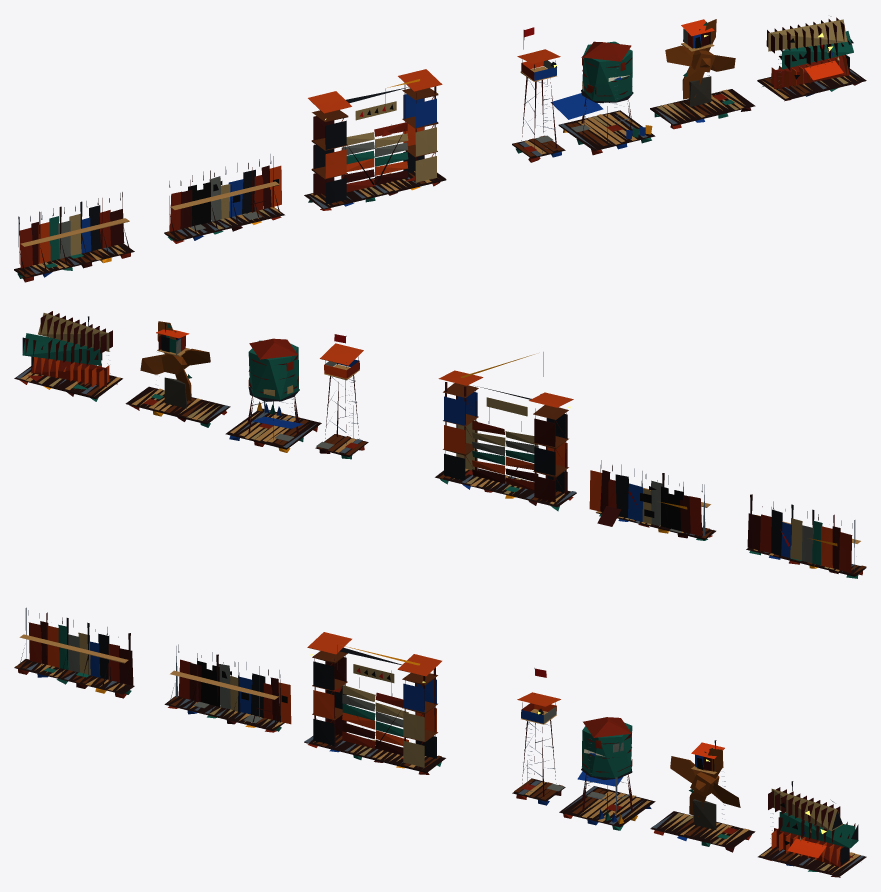
The model's file is tb_atoll_kit.three-web-toon.lod25.glb.
3 views of the same model, one above another, from view 1: azimuth 30°, elevation 25°; view 2: azimuth 150°, elevation 25°; view 3: azimuth 330°, elevation 25° (orthographic).
Parts seen in each view (by area): view 1: atoll_gate_lod, water_tank_lod, atoll_wall_burnt_lod, atoll_wall_lod, container_home_lod, propeller_lod, watchtower_lod; view 2: atoll_gate_lod, container_home_lod, water_tank_lod, atoll_wall_burnt_lod, atoll_wall_lod, propeller_lod, watchtower_lod; view 3: atoll_gate_lod, atoll_wall_burnt_lod, atoll_wall_lod, container_home_lod, water_tank_lod, propeller_lod, watchtower_lod.
Part boxes in pixels (x1,y1,x2,y2): atoll_gate_lod: (304, 69, 446, 210); water_tank_lod: (550, 41, 655, 155); atoll_wall_burnt_lod: (164, 154, 284, 243); atoll_wall_lod: (14, 192, 134, 282); container_home_lod: (757, 16, 866, 101); propeller_lod: (650, 19, 755, 129); watchtower_lod: (512, 27, 565, 162); atoll_gate_lod: (435, 352, 576, 511); container_home_lod: (14, 311, 122, 401); water_tank_lod: (225, 338, 321, 452); atoll_wall_burnt_lod: (589, 460, 715, 540); atoll_wall_lod: (746, 494, 866, 578); propeller_lod: (125, 321, 230, 427); watchtower_lod: (315, 334, 368, 459); atoll_gate_lod: (304, 632, 445, 774); atoll_wall_burnt_lod: (164, 644, 291, 732); atoll_wall_lod: (14, 607, 134, 698); container_home_lod: (758, 781, 866, 877); water_tank_lod: (559, 717, 655, 830); propeller_lod: (650, 740, 755, 852); watchtower_lod: (512, 668, 565, 805).
Size of the model in its own units: 122 by 17.74 by 12.15.
